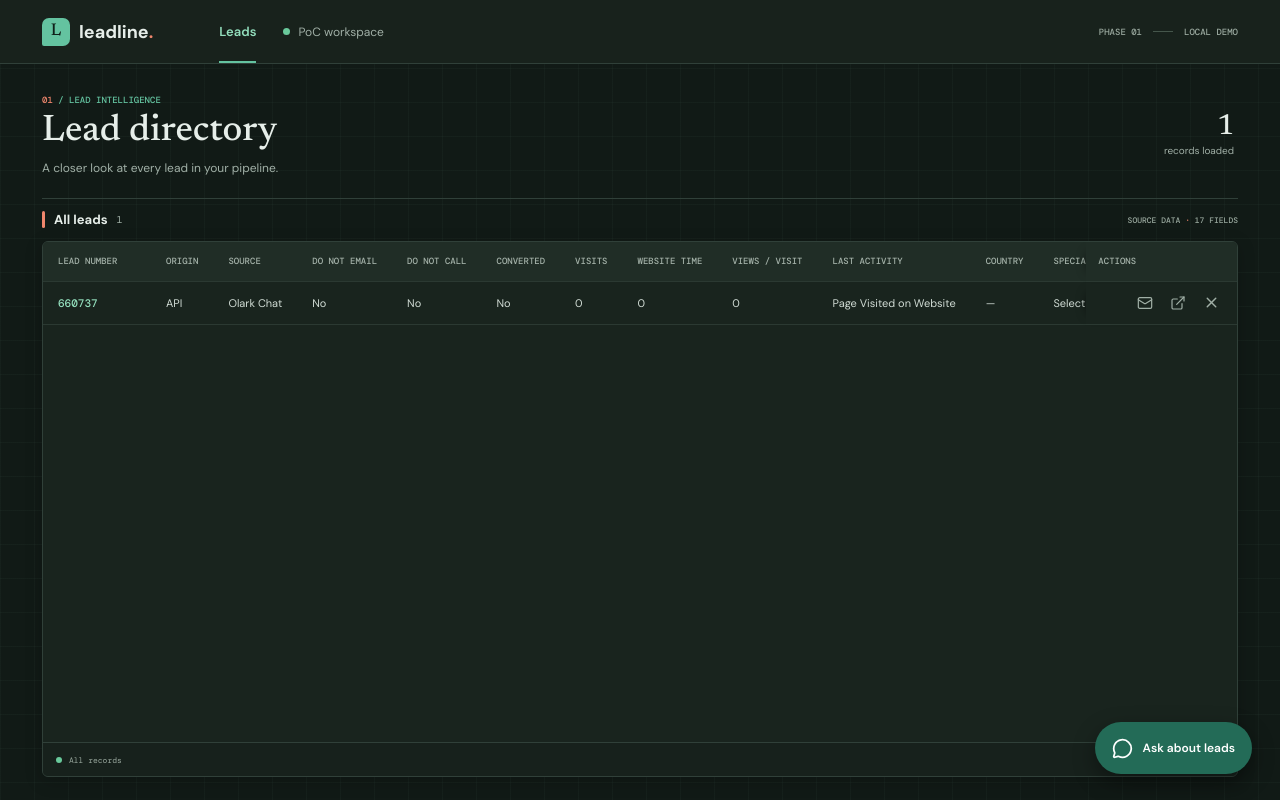
Test: leads dashboard › shows an error message when the chat endpoint fails
The width and height of the screenshot is (1280, 800).
Step 1. Click the button with aria-label "Open chat" → coordinates (1173, 748), box x1=1095 y1=722 x2=1252 y2=774
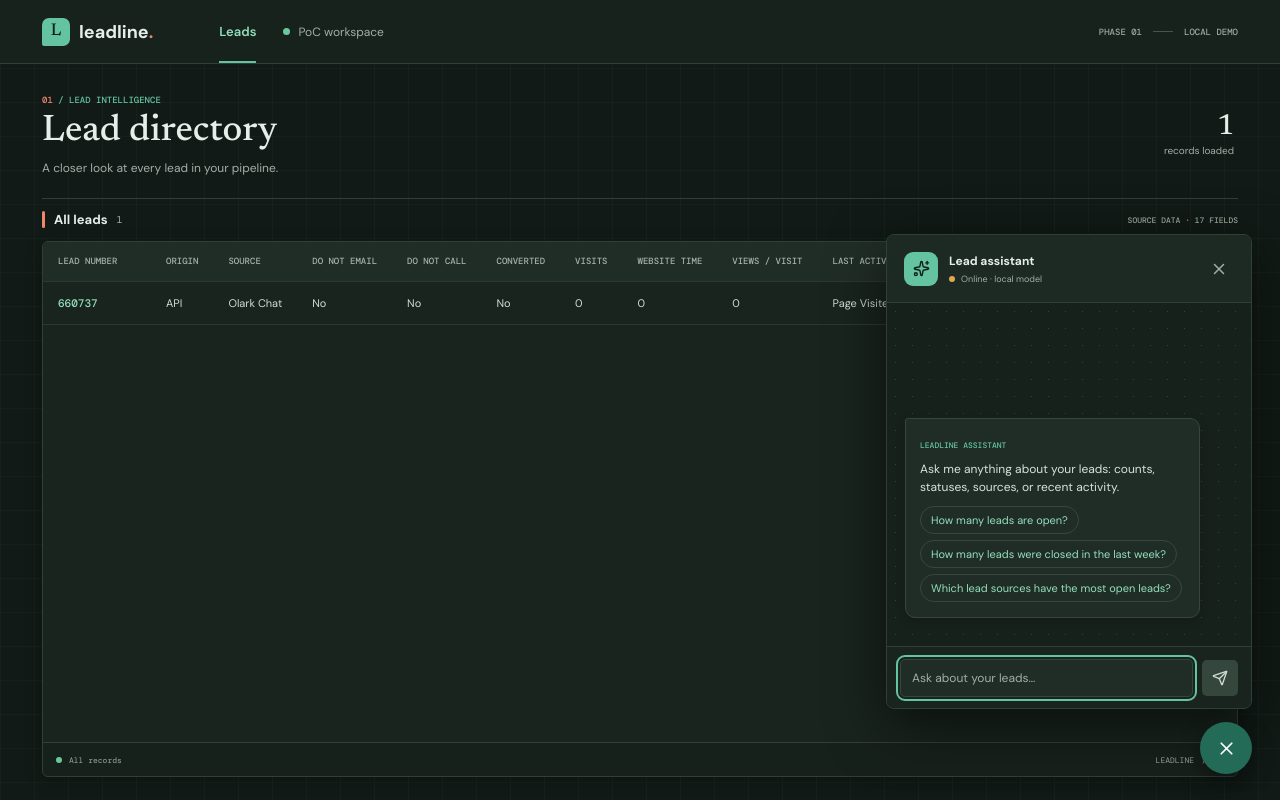
Step 2. Type "hi" into the field named "Message" → coordinates (1046, 678), box x1=900 y1=658 x2=1193 y2=696
Then press Enter
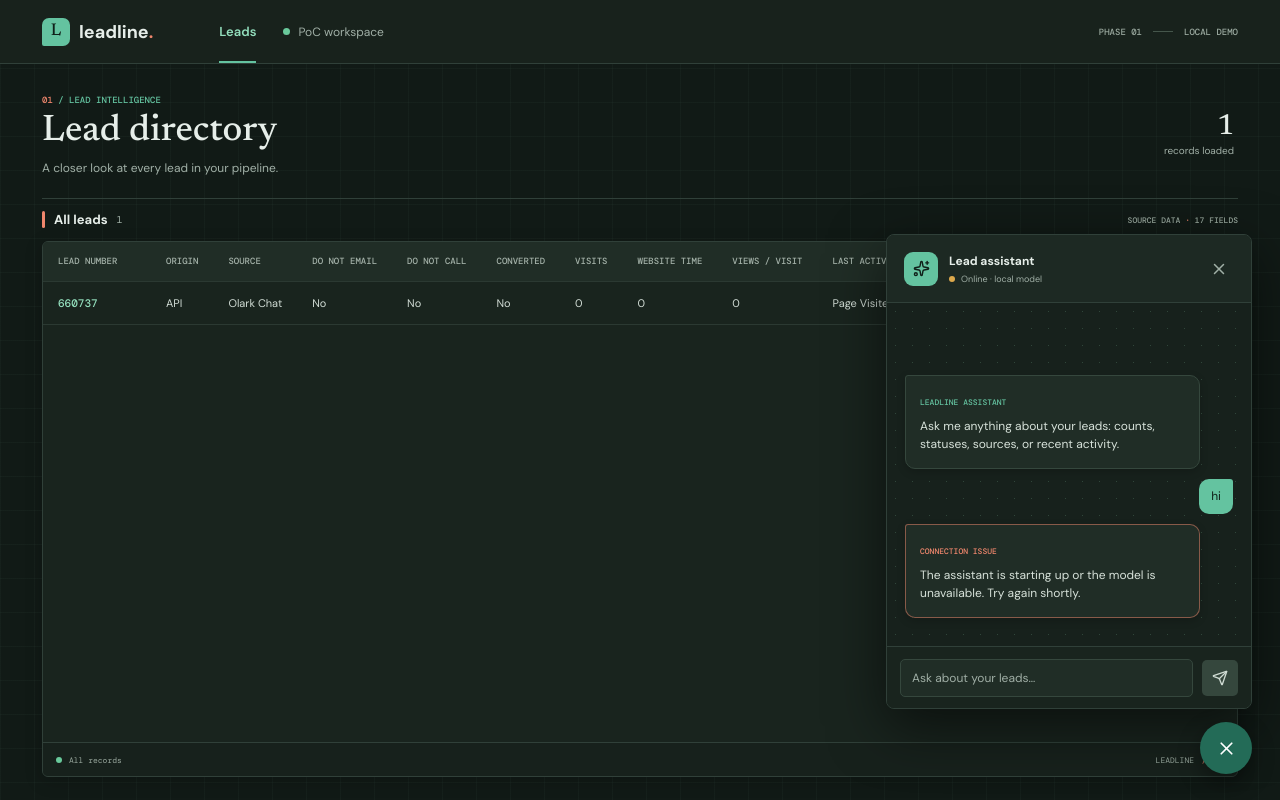
Now the text "model is unavailable" is shown, box x1=920 y1=567 x2=1159 y2=601
